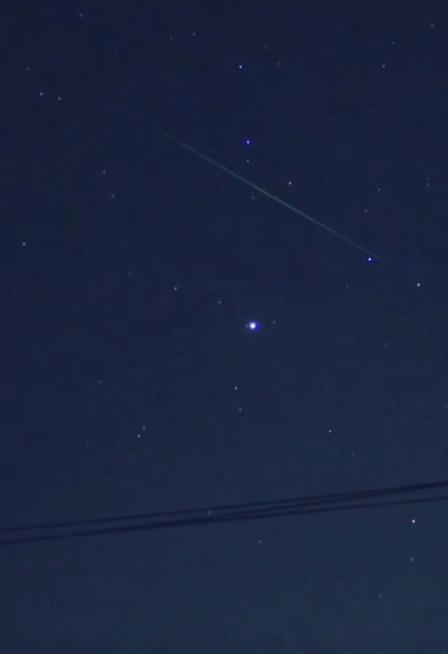meteorite: (143, 122, 329, 231)
